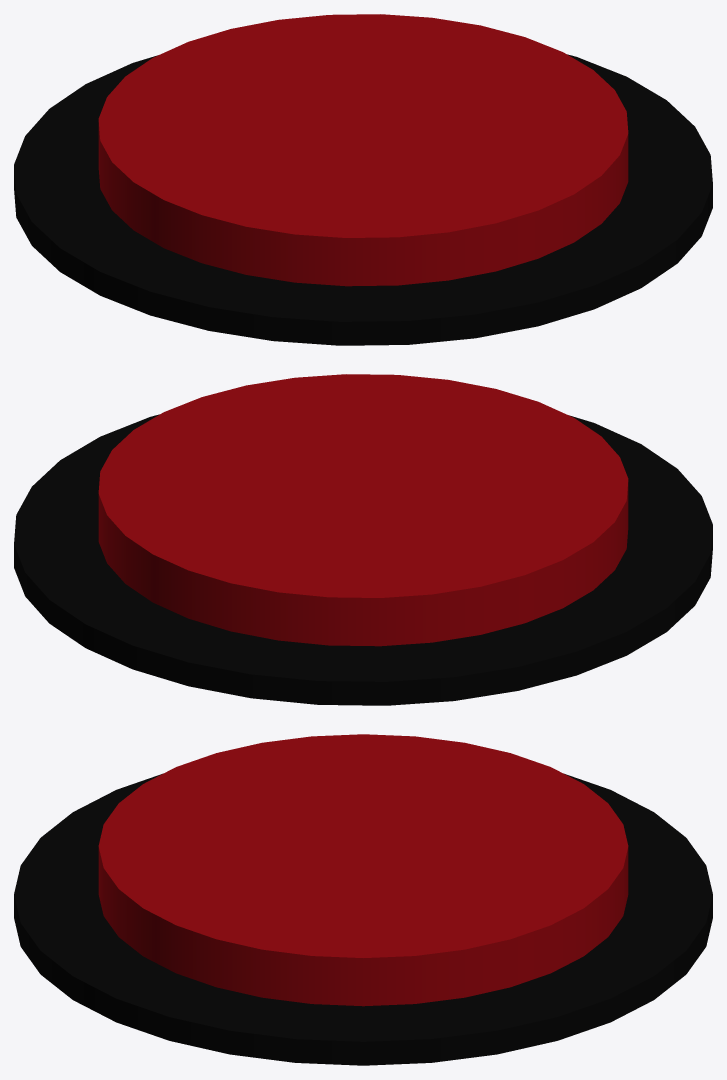
File: Button.fbx
3 renders of one model, top to bottom at view 1: azimuth 30°, elevation 25°; view 2: azimuth 150°, elevation 25°; view 3: azimuth 270°, elevation 25°, orthographic.
Parts seen in each view (by area): view 1: Button; view 2: Button; view 3: Button.
Part boxes in pixels (left/top/right/bottom): Button: left=14, top=14, right=712, bottom=345; Button: left=14, top=374, right=712, bottom=705; Button: left=14, top=734, right=712, bottom=1065.
Bounding box in the file's own units: 200 × 22.68 × 200.
